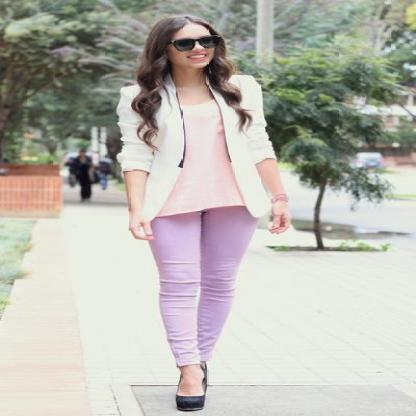jacket: (116, 74, 276, 219)
pants: (137, 205, 254, 357)
shirt: (166, 103, 246, 214)
shoe: (176, 395, 205, 411)
sunglass: (170, 38, 198, 51)
